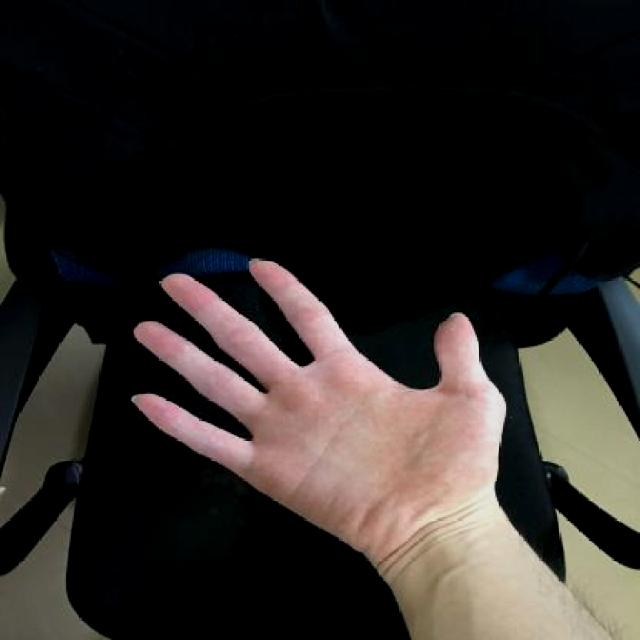no_glove: (118, 242, 519, 566)
